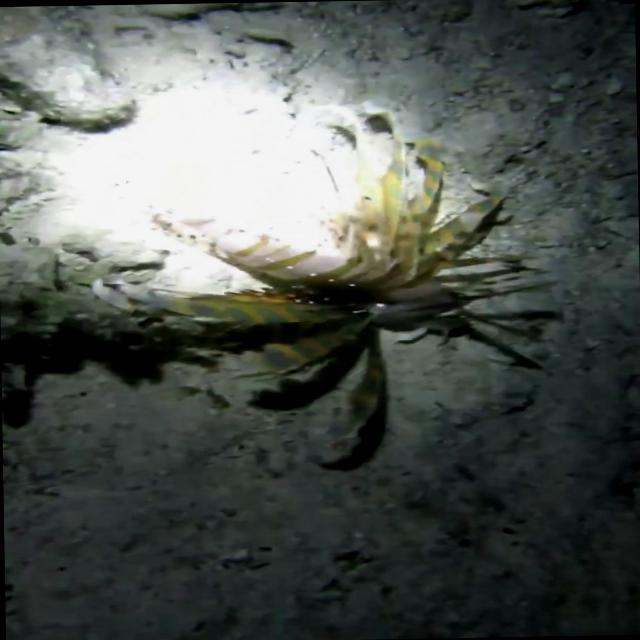Aslan Baligi: (38, 92, 603, 476)
